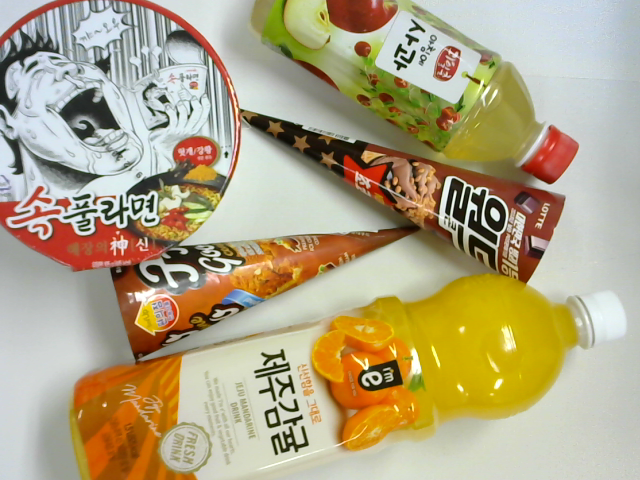GooGoo_Cone_CVS: (110, 211, 441, 366)
Hejangpul: (1, 1, 238, 267)
Jeju_Tangerine_1.5L: (68, 275, 635, 480)
Morning_Apple_500ml: (250, 1, 583, 184)
World_Cone_Choco: (239, 112, 569, 281)
